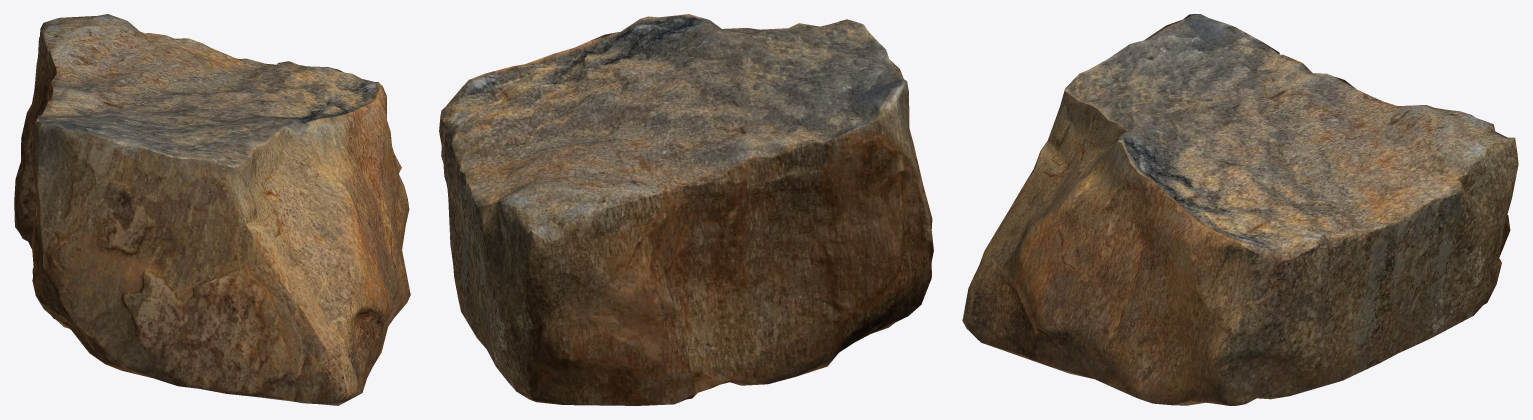
File: boulder_pale.glb
3 renders of one model, left to right at view 1: azimuth 30°, elevation 25°; view 2: azimuth 150°, elevation 25°; view 3: azimuth 270°, elevation 25°, orthographic. The views are drawn at different scales.
Parts seen in each view (by area): view 1: boulder_03_LOD0; view 2: boulder_03_LOD0; view 3: boulder_03_LOD0.
Boxes of the visible parts, x1=… form: boulder_03_LOD0: x1=14, y1=14, x2=410, y2=405; boulder_03_LOD0: x1=439, y1=14, x2=933, y2=405; boulder_03_LOD0: x1=962, y1=14, x2=1518, y2=405.
Size of the model in its own units: 2.4 by 1.47 by 3.07.
1 material, 1 textured.
